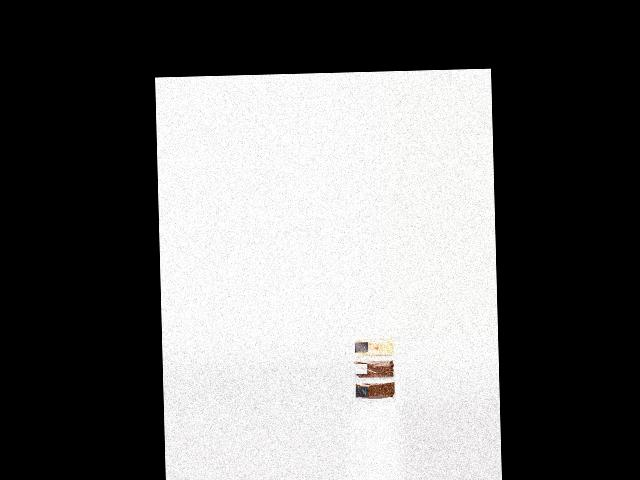chocolate: (356, 380, 399, 405)
